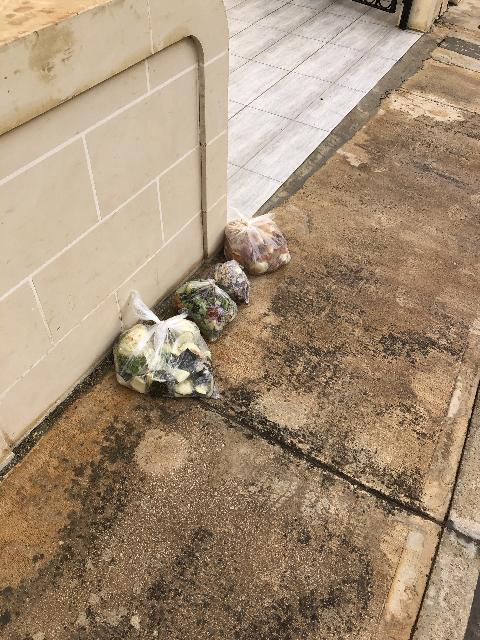Organic -White-: (113, 290, 217, 397), (224, 211, 290, 275), (173, 279, 237, 342), (201, 259, 250, 305)
